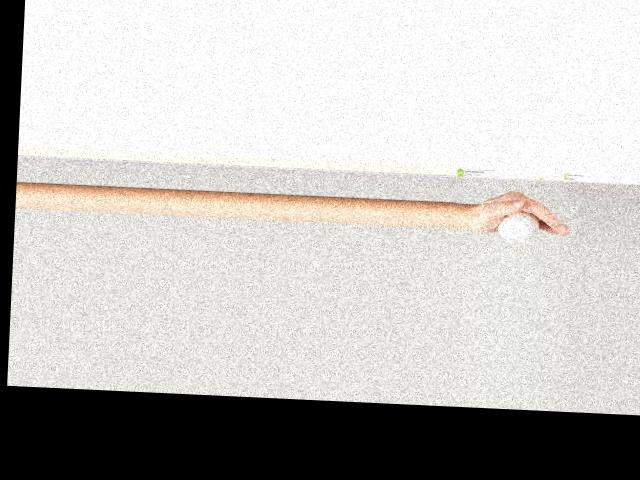egg: (497, 210, 540, 240)
